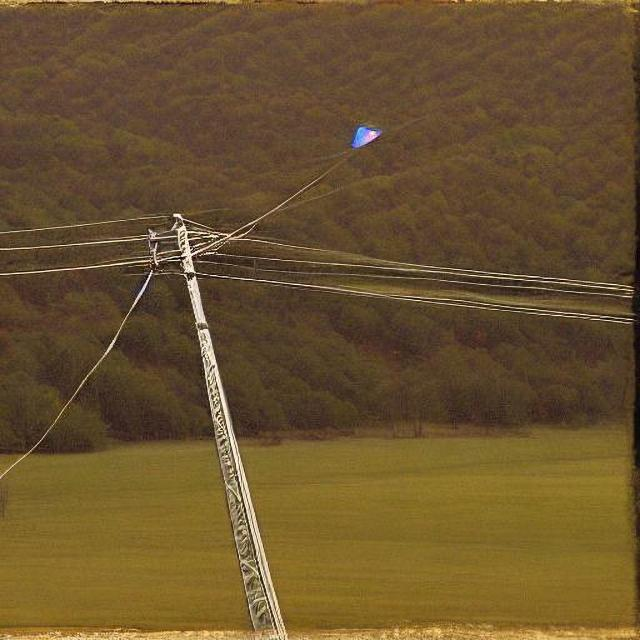floating object: (348, 124, 382, 150)
